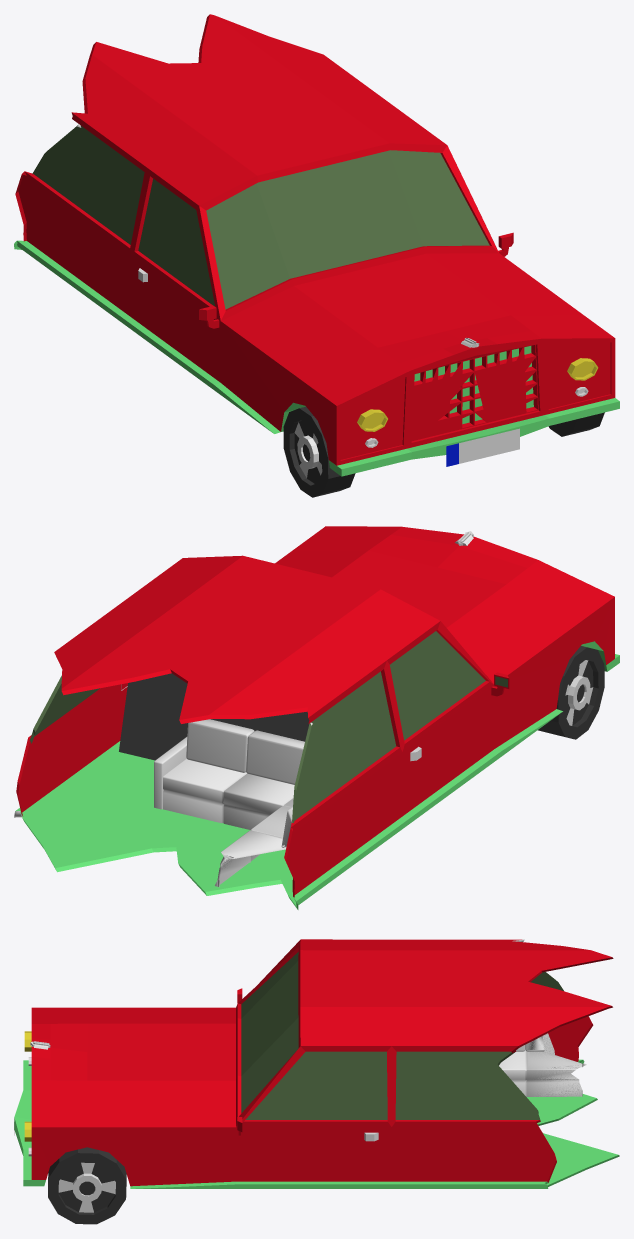
Rendered from limuzin.crash-2.fbx.
The picture shows the model from 3 angles, top to bottom: view 1: azimuth 30°, elevation 25°; view 2: azimuth 150°, elevation 25°; view 3: azimuth 270°, elevation 25°; orthographic projection. The views are drawn at different scales.
Visible parts, largest first — view 1: body, on_teker; view 2: body, koltuk, 1, on_teker; view 3: body, on_teker, koltuk.
Boxes of the visible parts, x1,y1,x2,y2 form: body: [14, 14, 619, 476]; on_teker: [283, 406, 604, 497]; body: [14, 526, 619, 909]; koltuk: [154, 719, 304, 887]; 1: [119, 673, 309, 760]; on_teker: [538, 646, 604, 739]; body: [14, 939, 619, 1188]; on_teker: [48, 1147, 126, 1224]; koltuk: [499, 1033, 586, 1096].
Bounding box in the file's own units: 417 × 268 × 791.
